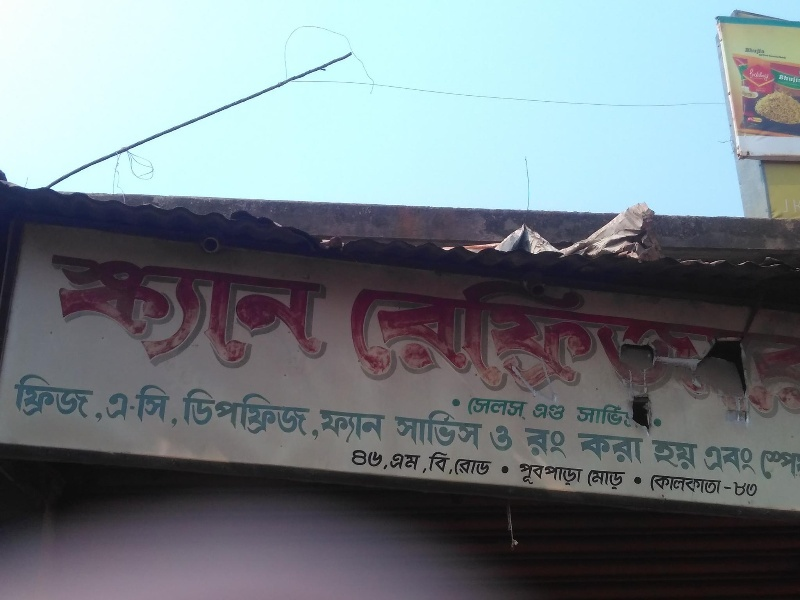text: (353, 258, 368, 412), (369, 258, 384, 412), (385, 258, 400, 412), (401, 258, 416, 412), (417, 258, 432, 412), (433, 258, 448, 412), (449, 258, 464, 412), (465, 258, 480, 412), (481, 258, 496, 412), (497, 258, 512, 412), (513, 258, 528, 412), (529, 258, 544, 412), (545, 258, 560, 412), (561, 258, 576, 412), (577, 258, 592, 412), (593, 258, 608, 412), (609, 258, 624, 412), (625, 258, 640, 412), (641, 258, 656, 412), (657, 258, 672, 412), (673, 258, 688, 412), (689, 258, 704, 412), (705, 258, 720, 412), (721, 258, 736, 412), (737, 258, 752, 412), (753, 258, 768, 412), (769, 258, 784, 412), (785, 258, 800, 412), (65, 253, 80, 388), (81, 253, 96, 388), (97, 253, 112, 388), (113, 253, 128, 388), (129, 253, 144, 388), (145, 253, 160, 388), (161, 253, 176, 388), (177, 253, 192, 388), (193, 253, 208, 388), (209, 253, 224, 388), (225, 253, 240, 388), (241, 253, 256, 388), (257, 253, 272, 388), (273, 253, 288, 388), (289, 253, 304, 388), (305, 253, 320, 388), (51, 253, 64, 388), (321, 253, 334, 388), (17, 368, 32, 424), (33, 368, 48, 424), (49, 368, 64, 424), (65, 368, 80, 424), (81, 368, 96, 424), (193, 385, 208, 438), (209, 385, 224, 438), (225, 385, 240, 438), (241, 385, 256, 438), (257, 385, 272, 438), (273, 385, 288, 438), (289, 385, 304, 438), (401, 403, 416, 451), (417, 403, 432, 451), (433, 403, 448, 451), (449, 403, 464, 451), (465, 403, 480, 451), (113, 384, 128, 430), (129, 384, 144, 430), (145, 384, 160, 430), (161, 384, 176, 430), (769, 445, 784, 488), (785, 445, 800, 488), (97, 368, 108, 424), (754, 445, 768, 488), (321, 410, 336, 449), (337, 410, 352, 449), (353, 410, 368, 449), (369, 410, 384, 449), (577, 429, 592, 465), (593, 429, 608, 465), (609, 429, 624, 465), (625, 429, 640, 465), (705, 442, 720, 477), (721, 442, 736, 477), (737, 442, 752, 477), (657, 438, 672, 472), (673, 438, 688, 472), (529, 426, 544, 458), (545, 426, 560, 458), (497, 424, 512, 453), (529, 460, 544, 488), (545, 460, 560, 488), (561, 460, 576, 488), (433, 452, 448, 479), (737, 475, 752, 502), (353, 445, 368, 471), (369, 445, 384, 471), (593, 467, 608, 492), (609, 467, 624, 492), (185, 385, 192, 438), (305, 385, 312, 438), (577, 402, 592, 426), (593, 402, 608, 426), (609, 402, 624, 426), (657, 474, 672, 498), (673, 474, 688, 498), (689, 474, 704, 498), (705, 474, 720, 498), (529, 398, 544, 421), (545, 398, 560, 421), (401, 451, 416, 474), (689, 438, 699, 472), (393, 403, 400, 451), (481, 398, 496, 420), (497, 398, 512, 420), (513, 398, 528, 420), (465, 457, 480, 479), (647, 438, 656, 472), (785, 196, 800, 216), (481, 403, 487, 451), (625, 402, 637, 426), (481, 457, 494, 479), (518, 460, 528, 488), (577, 460, 587, 488), (417, 451, 428, 474), (641, 429, 648, 465), (753, 475, 762, 502), (753, 67, 768, 83), (561, 426, 568, 458), (470, 398, 480, 420), (561, 398, 570, 421), (385, 410, 390, 449), (449, 452, 456, 479), (177, 384, 181, 430), (392, 451, 400, 474), (456, 457, 464, 479), (753, 442, 758, 477), (490, 424, 496, 453), (13, 368, 16, 424), (649, 474, 656, 498), (523, 426, 528, 458), (351, 258, 352, 412), (311, 427, 320, 443), (785, 75, 800, 84), (587, 467, 592, 492), (317, 410, 320, 449), (428, 452, 432, 479), (732, 475, 736, 502), (701, 442, 704, 477), (753, 48, 765, 56), (513, 424, 516, 453), (747, 67, 752, 83), (385, 445, 388, 471), (625, 467, 628, 492), (574, 429, 576, 465), (722, 485, 736, 490), (744, 48, 752, 56), (721, 474, 723, 498), (779, 75, 784, 84), (529, 398, 531, 420), (769, 67, 771, 83), (351, 445, 352, 471), (575, 402, 576, 426)
